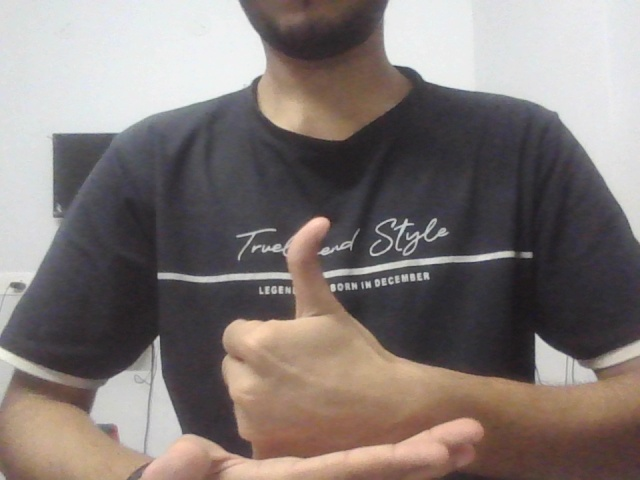Help: (129, 206, 503, 480)
